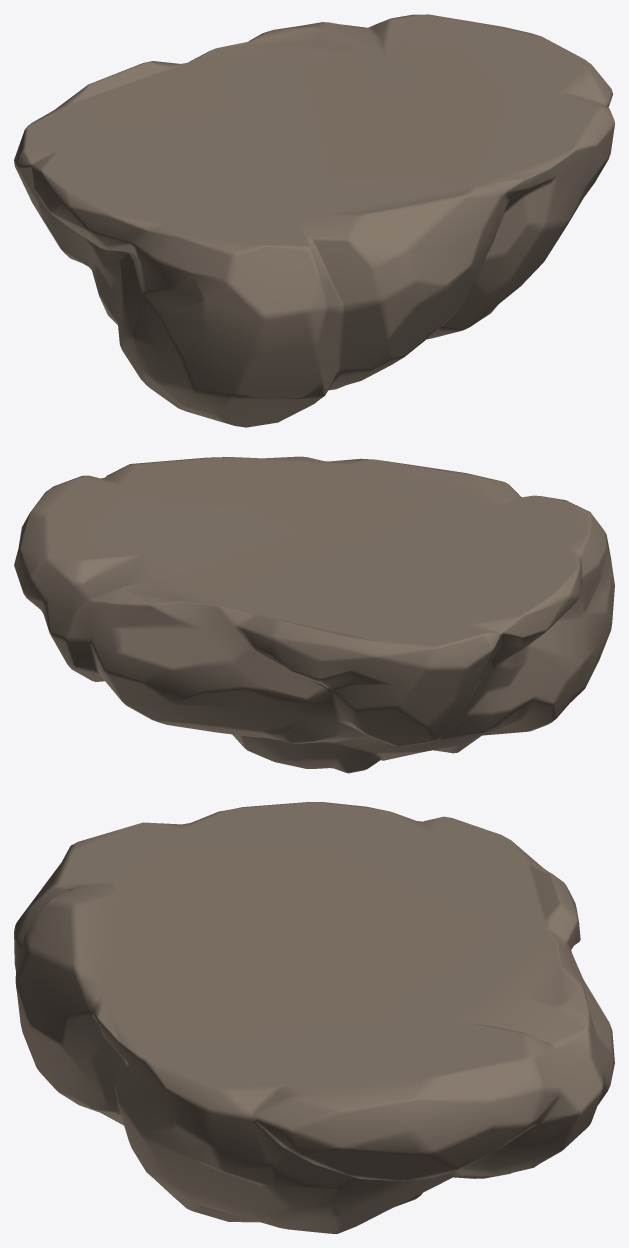
The model's file is IlhaPP2.fbx.
The picture shows the model from 3 angles, top to bottom: view 1: azimuth 30°, elevation 25°; view 2: azimuth 150°, elevation 25°; view 3: azimuth 270°, elevation 25°; orthographic projection. The views are drawn at different scales.
Visible parts, largest first — view 1: IlhaPP2; view 2: IlhaPP2; view 3: IlhaPP2.
Boxes of the visible parts, x1,y1,x2,y2 form: IlhaPP2: (14,14,614,427); IlhaPP2: (14,456,614,773); IlhaPP2: (14,802,614,1233).
Size of the model in its own units: 802 by 313 by 665.
